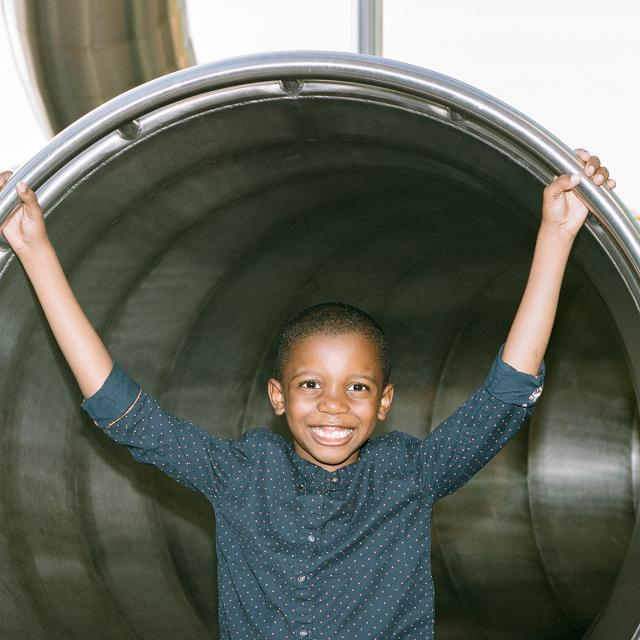child: (0, 148, 621, 640)
